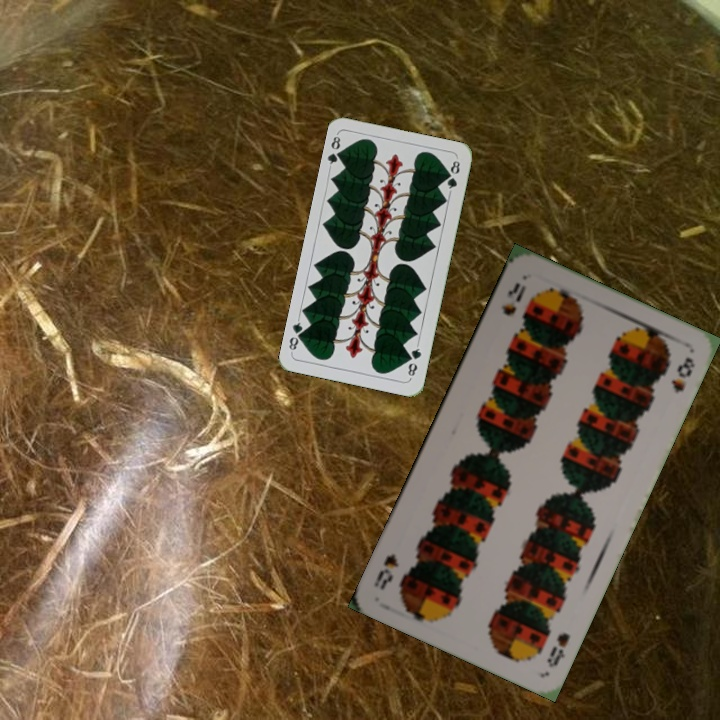G8: (324, 130, 346, 171), (404, 341, 424, 381)
S8: (542, 628, 573, 671), (497, 278, 529, 319)
